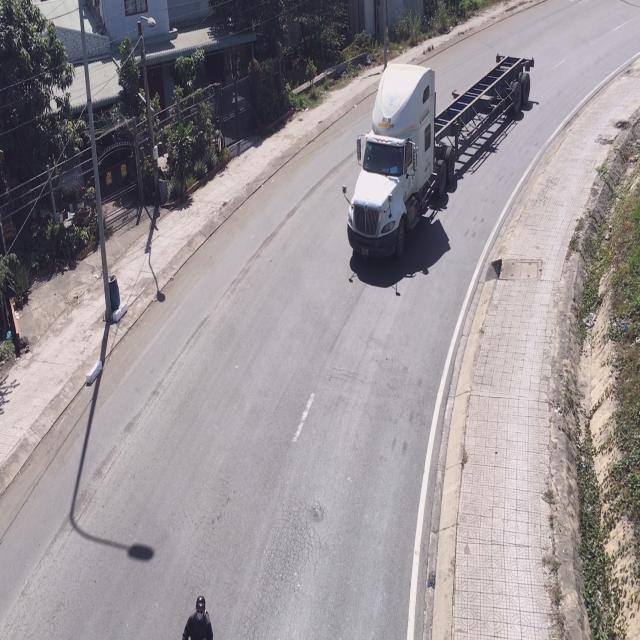motorbike: (176, 592, 219, 640)
truck: (347, 60, 535, 269)
